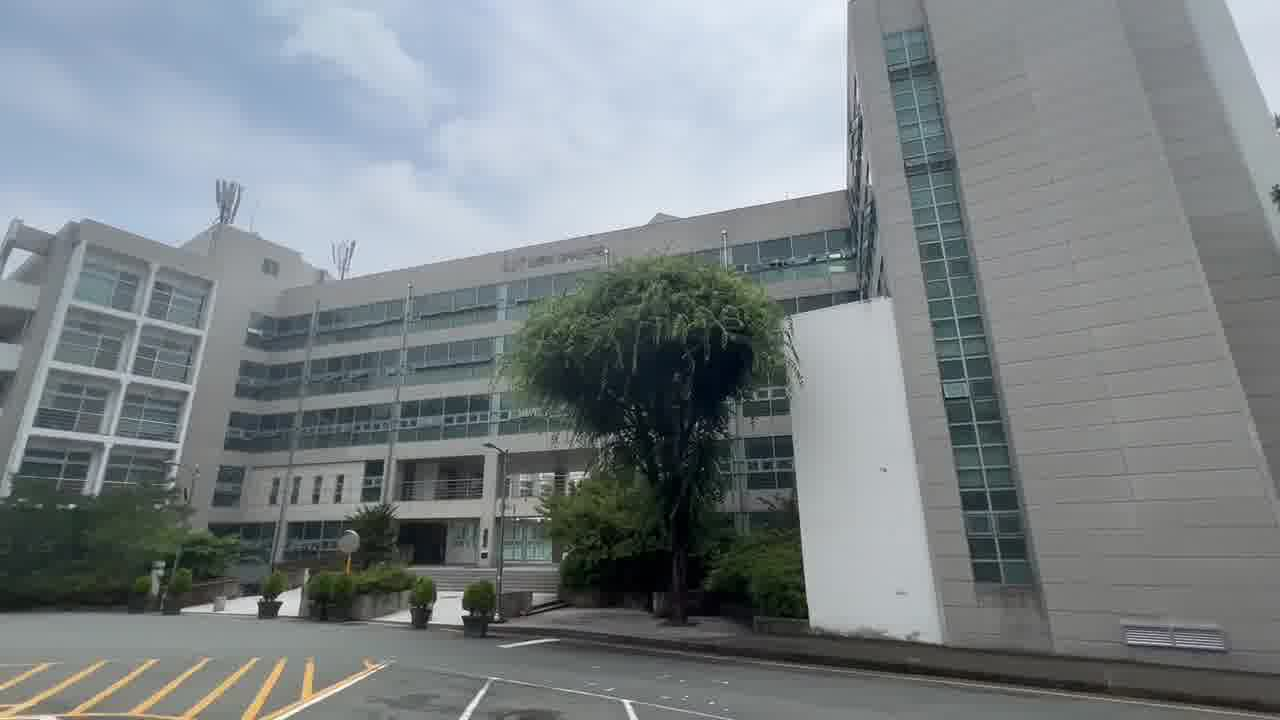low: (26, 200, 518, 513)
